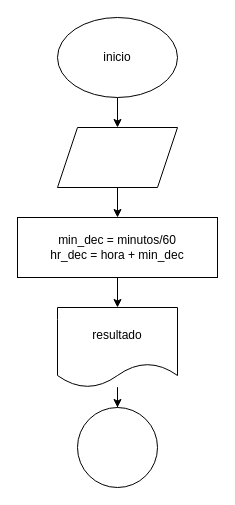
This 235x505 diagram has some shape labels left out. The box of each missing label's shape, as (x1, y1, x2, y2) in pixels:
fim: (76, 406, 158, 488)
hora, minutos: (56, 126, 178, 188)
